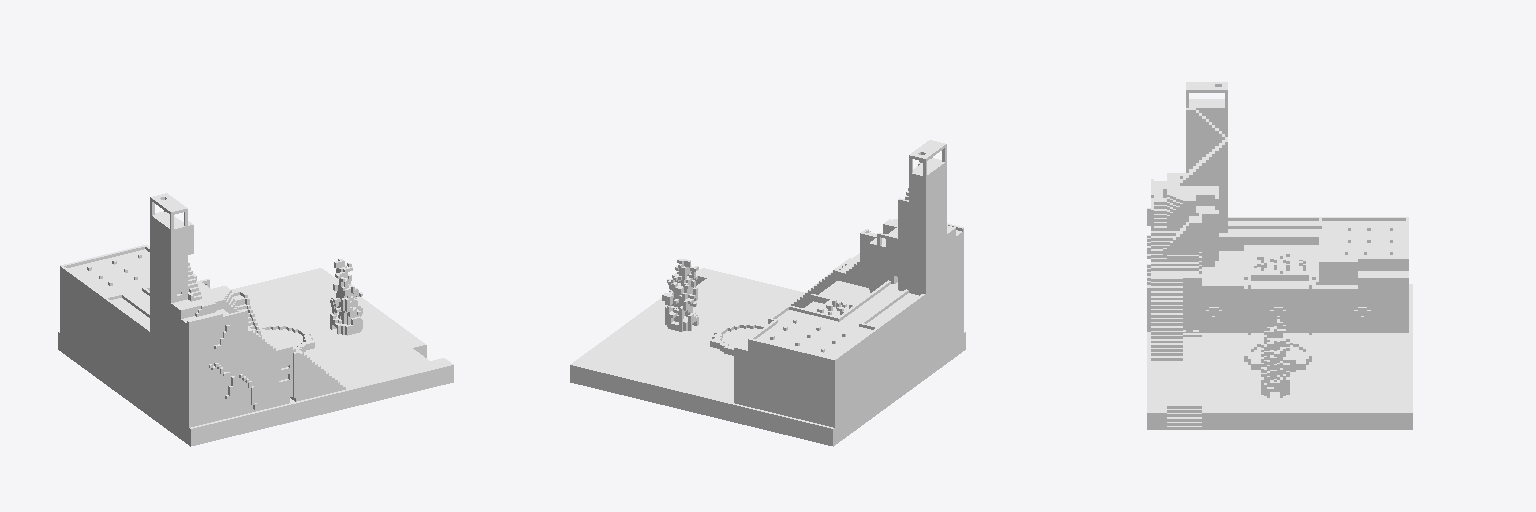
The model's file is building002.obj.
3 renders of one model, left to right at view 1: azimuth 30°, elevation 25°; view 2: azimuth 150°, elevation 25°; view 3: azimuth 270°, elevation 25°, orthographic.
Bounding box in the file's own units: 94 × 75 × 82.